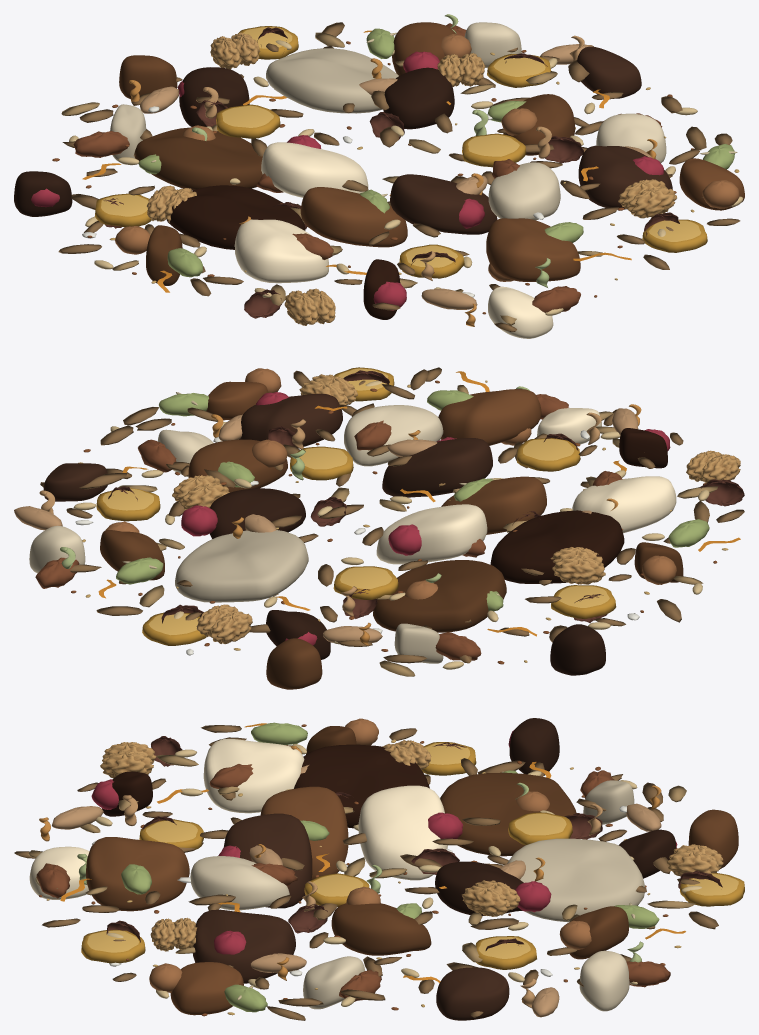
The model's file is smule-cookie-builder-ingredients.glb.
3 views of the same model, one above another, from view 1: azimuth 30°, elevation 25°; view 2: azimuth 150°, elevation 25°; view 3: azimuth 270°, elevation 25° (orthographic).
Visible parts, largest first — view 1: Baked topping white-chocolate, Baked topping milk-chocolate, Baked topping dark-chocolate, Baked topping banana, Oat dough surface - toasted rolled flakes, Baked topping walnut, Baked topping oat-flakes, Baked topping pistachio, Baked topping hazelnut, Baked topping date, Baked topping raisin, Baked topping almond (+6 smaller); view 2: Baked topping dark-chocolate, Baked topping white-chocolate, Baked topping milk-chocolate, Baked topping banana, Oat dough surface - toasted rolled flakes, Baked topping walnut, Baked topping pistachio, Baked topping oat-flakes, Baked topping date, Baked topping almond, Baked topping raisin, Baked topping hazelnut (+6 smaller); view 3: Baked topping white-chocolate, Baked topping milk-chocolate, Baked topping dark-chocolate, Baked topping banana, Oat dough surface - toasted rolled flakes, Baked topping walnut, Baked topping oat-flakes, Baked topping date, Baked topping pistachio, Baked topping almond, Baked topping raisin, Baked topping hazelnut (+6 smaller).
Part boxes in pixels (x1,y1,x2,y2): Baked topping white-chocolate: (110,22,666,338); Baked topping milk-chocolate: (119,22,744,285); Baked topping dark-chocolate: (14,46,672,319); Baked topping banana: (95,26,707,278); Oat dough surface - toasted rolled flakes: (61,22,732,331); Baked topping walnut: (146,32,676,325); Baked topping oat-flakes: (58,32,740,325); Baked topping pistachio: (138,28,737,277); Baked topping hazelnut: (115,34,739,281); Baked topping date: (73,23,662,312); Baked topping raisin: (103,27,679,318); Baked topping almond: (140,44,652,309); Baked topping dark-chocolate: (43,393,667,675); Baked topping white-chocolate: (29,405,676,663); Baked topping milk-chocolate: (100,381,683,689); Baked topping banana: (96,367,616,645); Oat dough surface - toasted rolled flakes: (40,367,744,676); Baked topping walnut: (172,374,740,644); Baked topping pistachio: (116,390,709,611); Baked topping oat-flakes: (79,369,709,663); Baked topping date: (35,394,622,660); Baked topping almond: (14,408,638,642); Baked topping raisin: (108,370,744,623); Baked topping hazelnut: (106,368,676,599); Baked topping white-chocolate: (29,739,644,1011); Baked topping milk-chocolate: (86,726,738,1015); Baked topping dark-chocolate: (102,718,676,1020); Baked topping banana: (81,742,744,969); Oat dough surface - toasted rolled flakes: (14,725,718,1020); Baked topping walnut: (100,740,723,951); Baked topping oat-flakes: (28,728,695,1006); Baked topping date: (36,764,670,1001); Baked topping pistachio: (121,722,659,1012); Baked topping almond: (52,765,661,1017); Baked topping raisin: (106,736,722,950); Baked topping hazelnut: (149,718,591,992).
Size of the model in its own units: 3.77 by 0.476 by 3.87.
